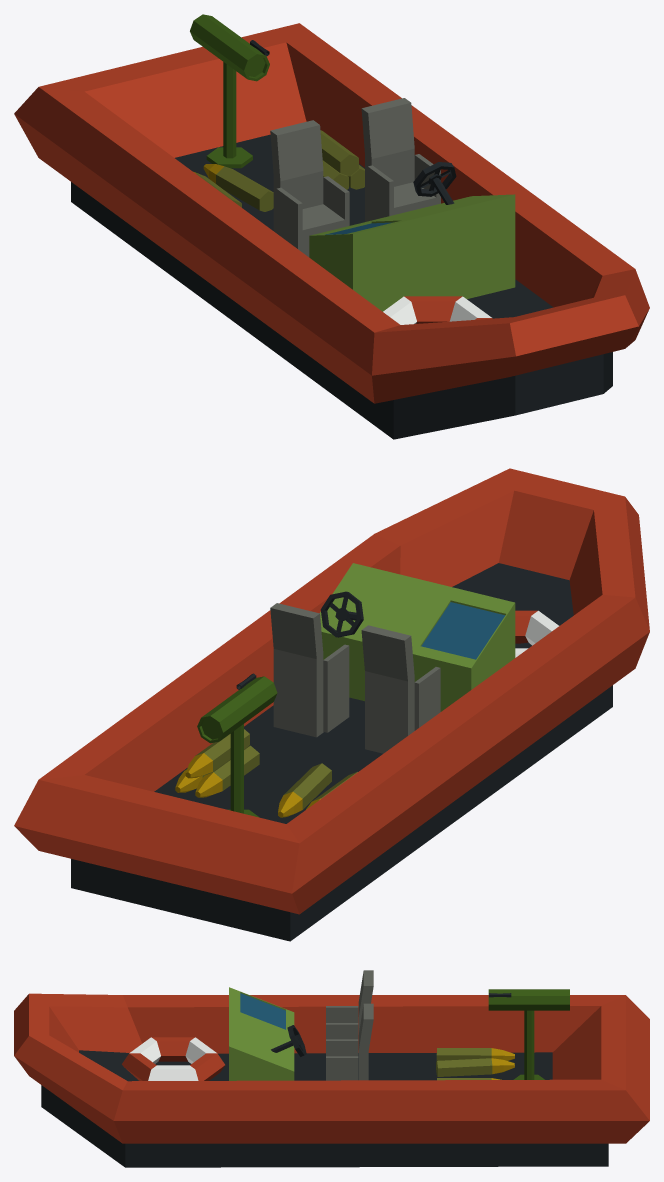
The model's file is gunboat.glb.
The picture shows the model from 3 angles, top to bottom: view 1: azimuth 30°, elevation 25°; view 2: azimuth 150°, elevation 25°; view 3: azimuth 270°, elevation 25°; orthographic projection. The views are drawn at different scales.
Parts seen in each view (by area): view 1: Boat; view 2: Boat; view 3: Boat.
Boxes of the visible parts, x1=… form: Boat: x1=14, y1=14, x2=649, y2=439; Boat: x1=14, y1=468, x2=649, y2=941; Boat: x1=14, y1=970, x2=649, y2=1167.
Size of the model in its own units: 10.01 by 6.29 by 26.46.
2 materials, 2 textured.
